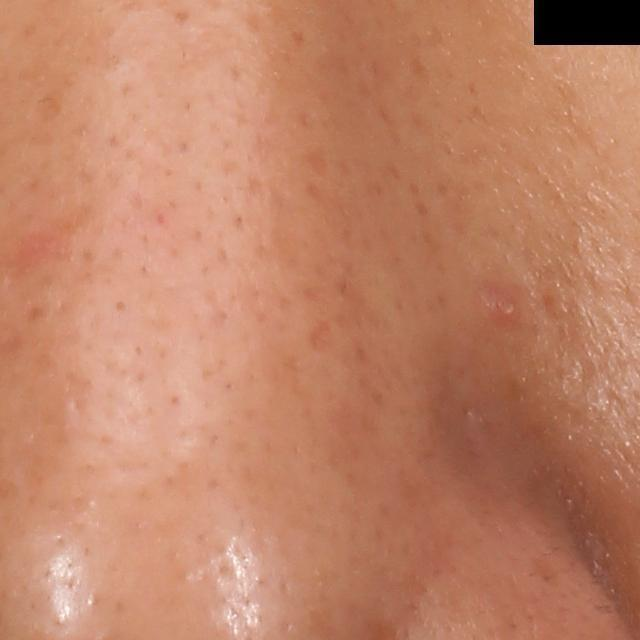papule: (484, 283, 527, 325)
